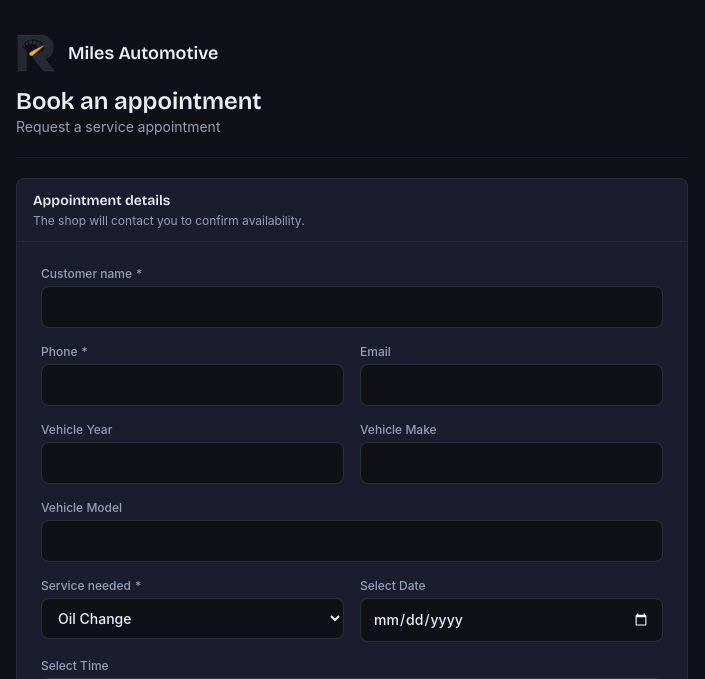
Test: Phase 6D public portals › keeps appointment request routing and JSON payloads
The image size is (705, 679).
Type "Miles Customer" into the field labelled "Customer name" at {"x": 352, "y": 307}, box left=41, top=286, right=663, bottom=328
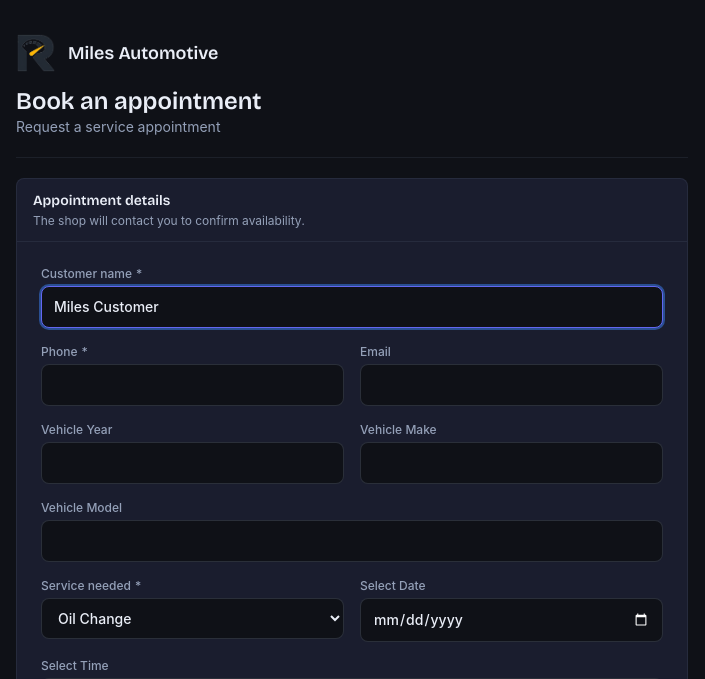
Type "2125550100" into the field labelled "Phone" at {"x": 192, "y": 385}, box left=41, top=364, right=344, bottom=406
(page scrolled)
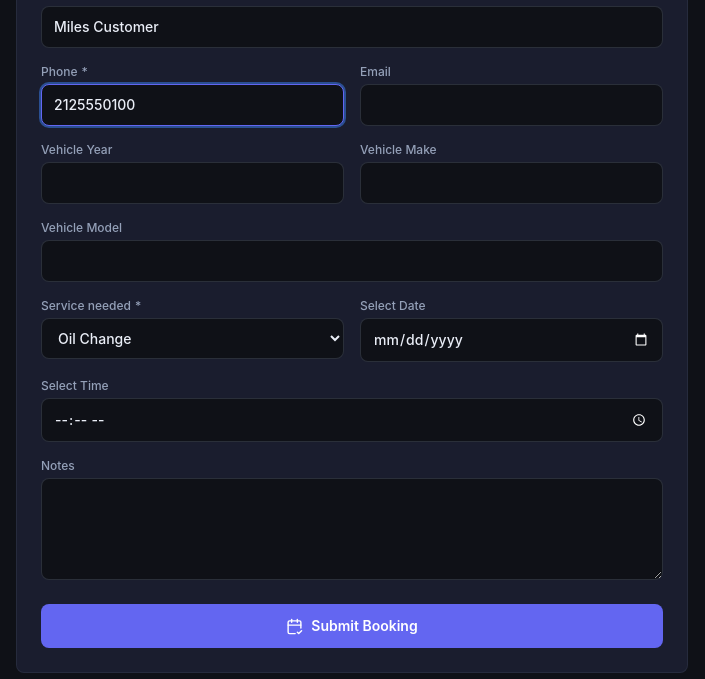
Click the button "Submit Booking" at {"x": 352, "y": 626}, box left=41, top=604, right=663, bottom=648
(page scrolled)
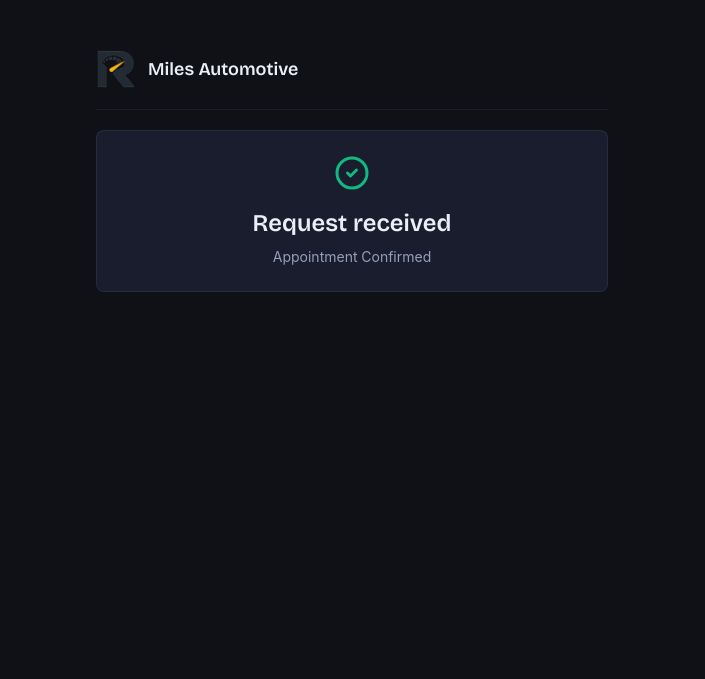
Now the message reads "Appointment Confirmed", box left=273, top=248, right=431, bottom=265
